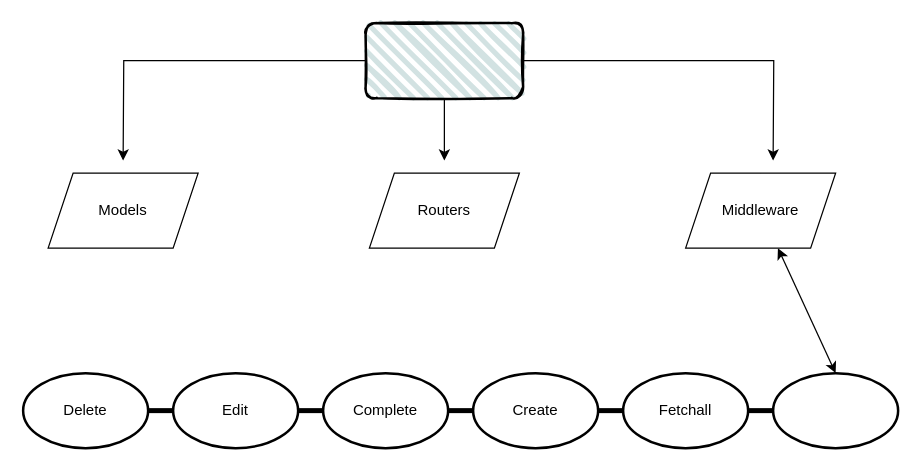
This 920x470 diagram has some shape labels left out. The centre of each missing label's shape, as x and y in pixels:
"Backend" belongs at (444,60).
"Db Connect" belongs at (835,410).
